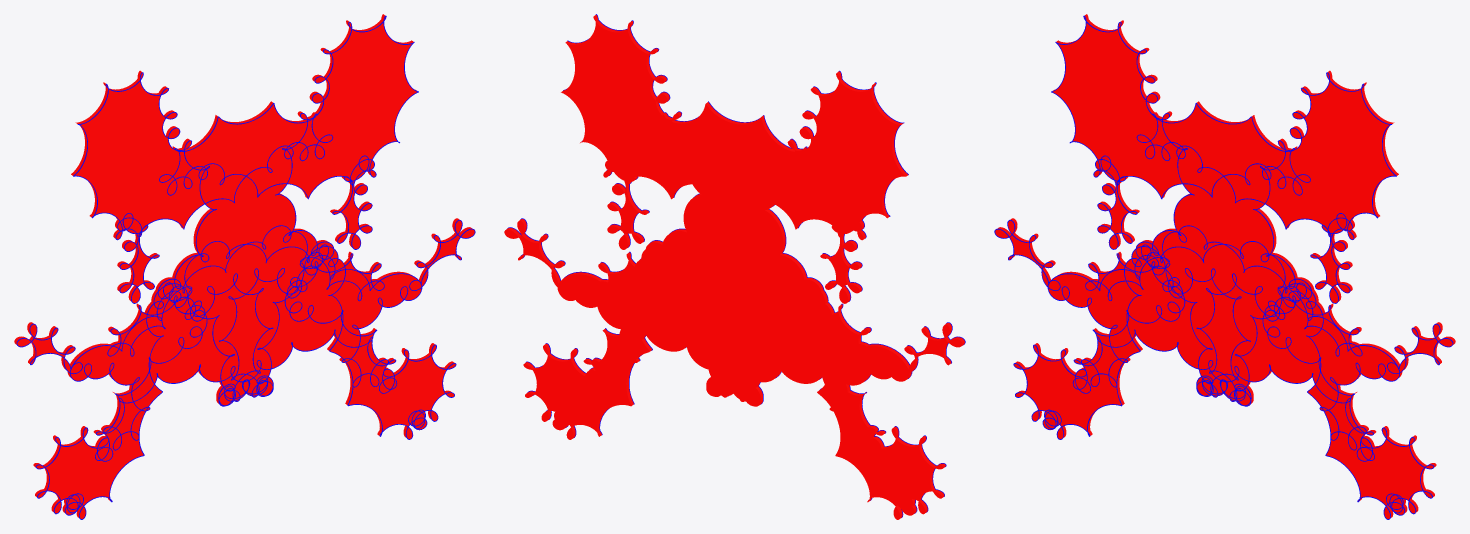
3 views of the same model, side by side, from view 1: azimuth 30°, elevation 25°; view 2: azimuth 150°, elevation 25°; view 3: azimuth 330°, elevation 25° (orthographic).
Bounding box in the file's own units: 1 × 0.9031 × 0.0109.
